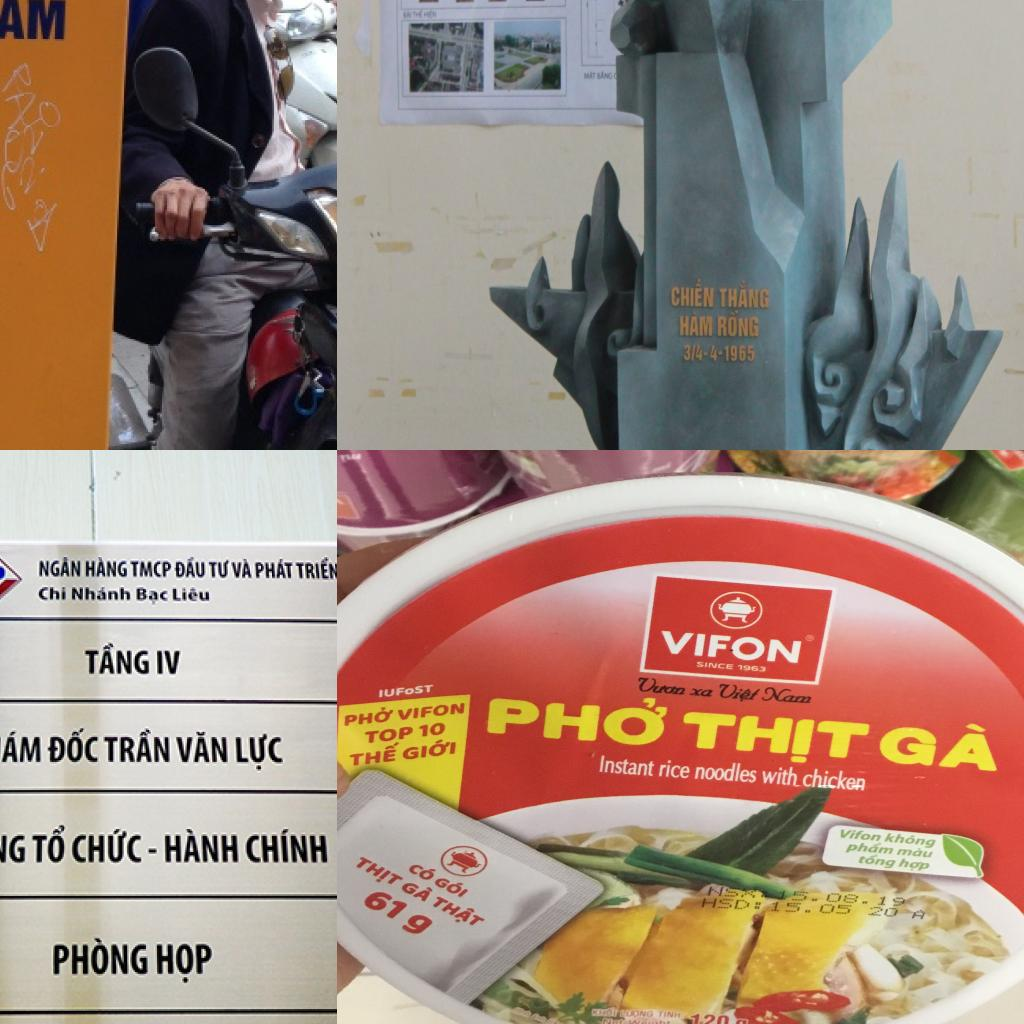text: (626, 534, 688, 646), (52, 933, 152, 981), (242, 825, 332, 868), (154, 938, 215, 990), (0, 0, 70, 45), (164, 827, 240, 868), (72, 825, 144, 866), (103, 726, 173, 766), (83, 642, 152, 677), (234, 732, 286, 776), (45, 725, 102, 765), (173, 730, 229, 766), (29, 822, 72, 866), (780, 772, 822, 813), (0, 728, 43, 765), (718, 280, 771, 309), (701, 608, 735, 652), (671, 277, 715, 309), (717, 309, 760, 338), (36, 554, 83, 580), (69, 584, 133, 603), (292, 555, 337, 581), (0, 827, 29, 867), (860, 763, 886, 804), (254, 557, 296, 582), (128, 557, 172, 580), (85, 556, 130, 578), (683, 587, 710, 623), (670, 591, 694, 630), (679, 310, 713, 337), (173, 555, 207, 582), (156, 647, 186, 677), (681, 542, 709, 574), (170, 585, 214, 605), (836, 768, 857, 809), (135, 586, 170, 608), (36, 584, 68, 603), (724, 344, 755, 362), (207, 559, 231, 582), (230, 557, 253, 580), (683, 344, 703, 362), (812, 750, 827, 770), (588, 796, 600, 817), (597, 70, 612, 81), (709, 344, 718, 362), (584, 70, 596, 81), (423, 10, 437, 19), (402, 10, 413, 20), (414, 10, 424, 20)
